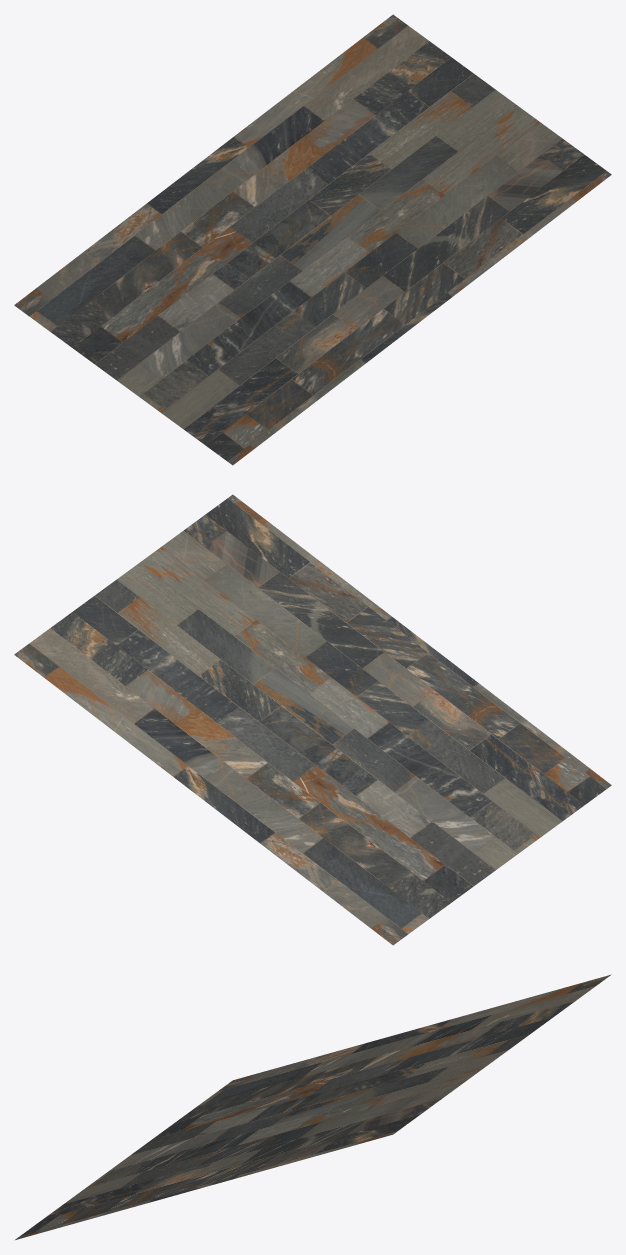
File: SlopedCeiling_01_2x2x1.fbx
The picture shows the model from 3 angles, top to bottom: view 1: azimuth 30°, elevation 25°; view 2: azimuth 150°, elevation 25°; view 3: azimuth 330°, elevation 25°; orthographic projection.
Parts seen in each view (by area): view 1: Cube.138; view 2: Cube.138; view 3: Cube.138.
Part boxes in pixels (x1=…): Cube.138: x1=14, y1=14, x2=611, y2=465; Cube.138: x1=14, y1=494, x2=611, y2=945; Cube.138: x1=14, y1=974, x2=611, y2=1240.
Size of the model in its own units: 200 by 100 by 200.
